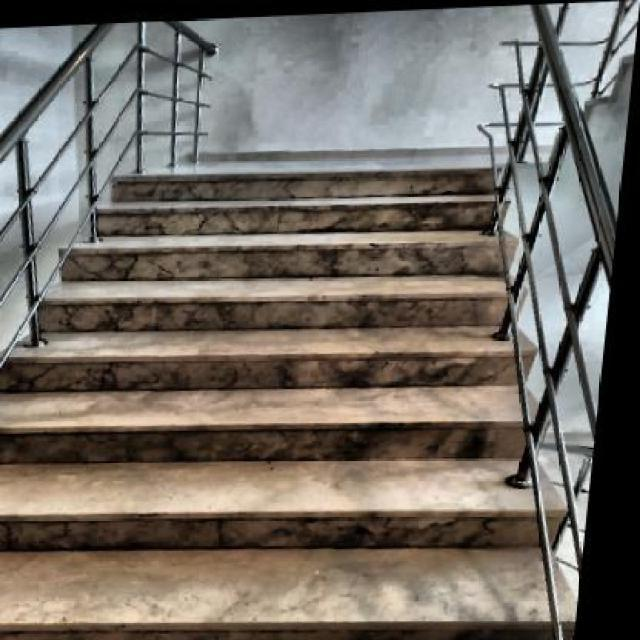stair: (1, 152, 628, 638)
